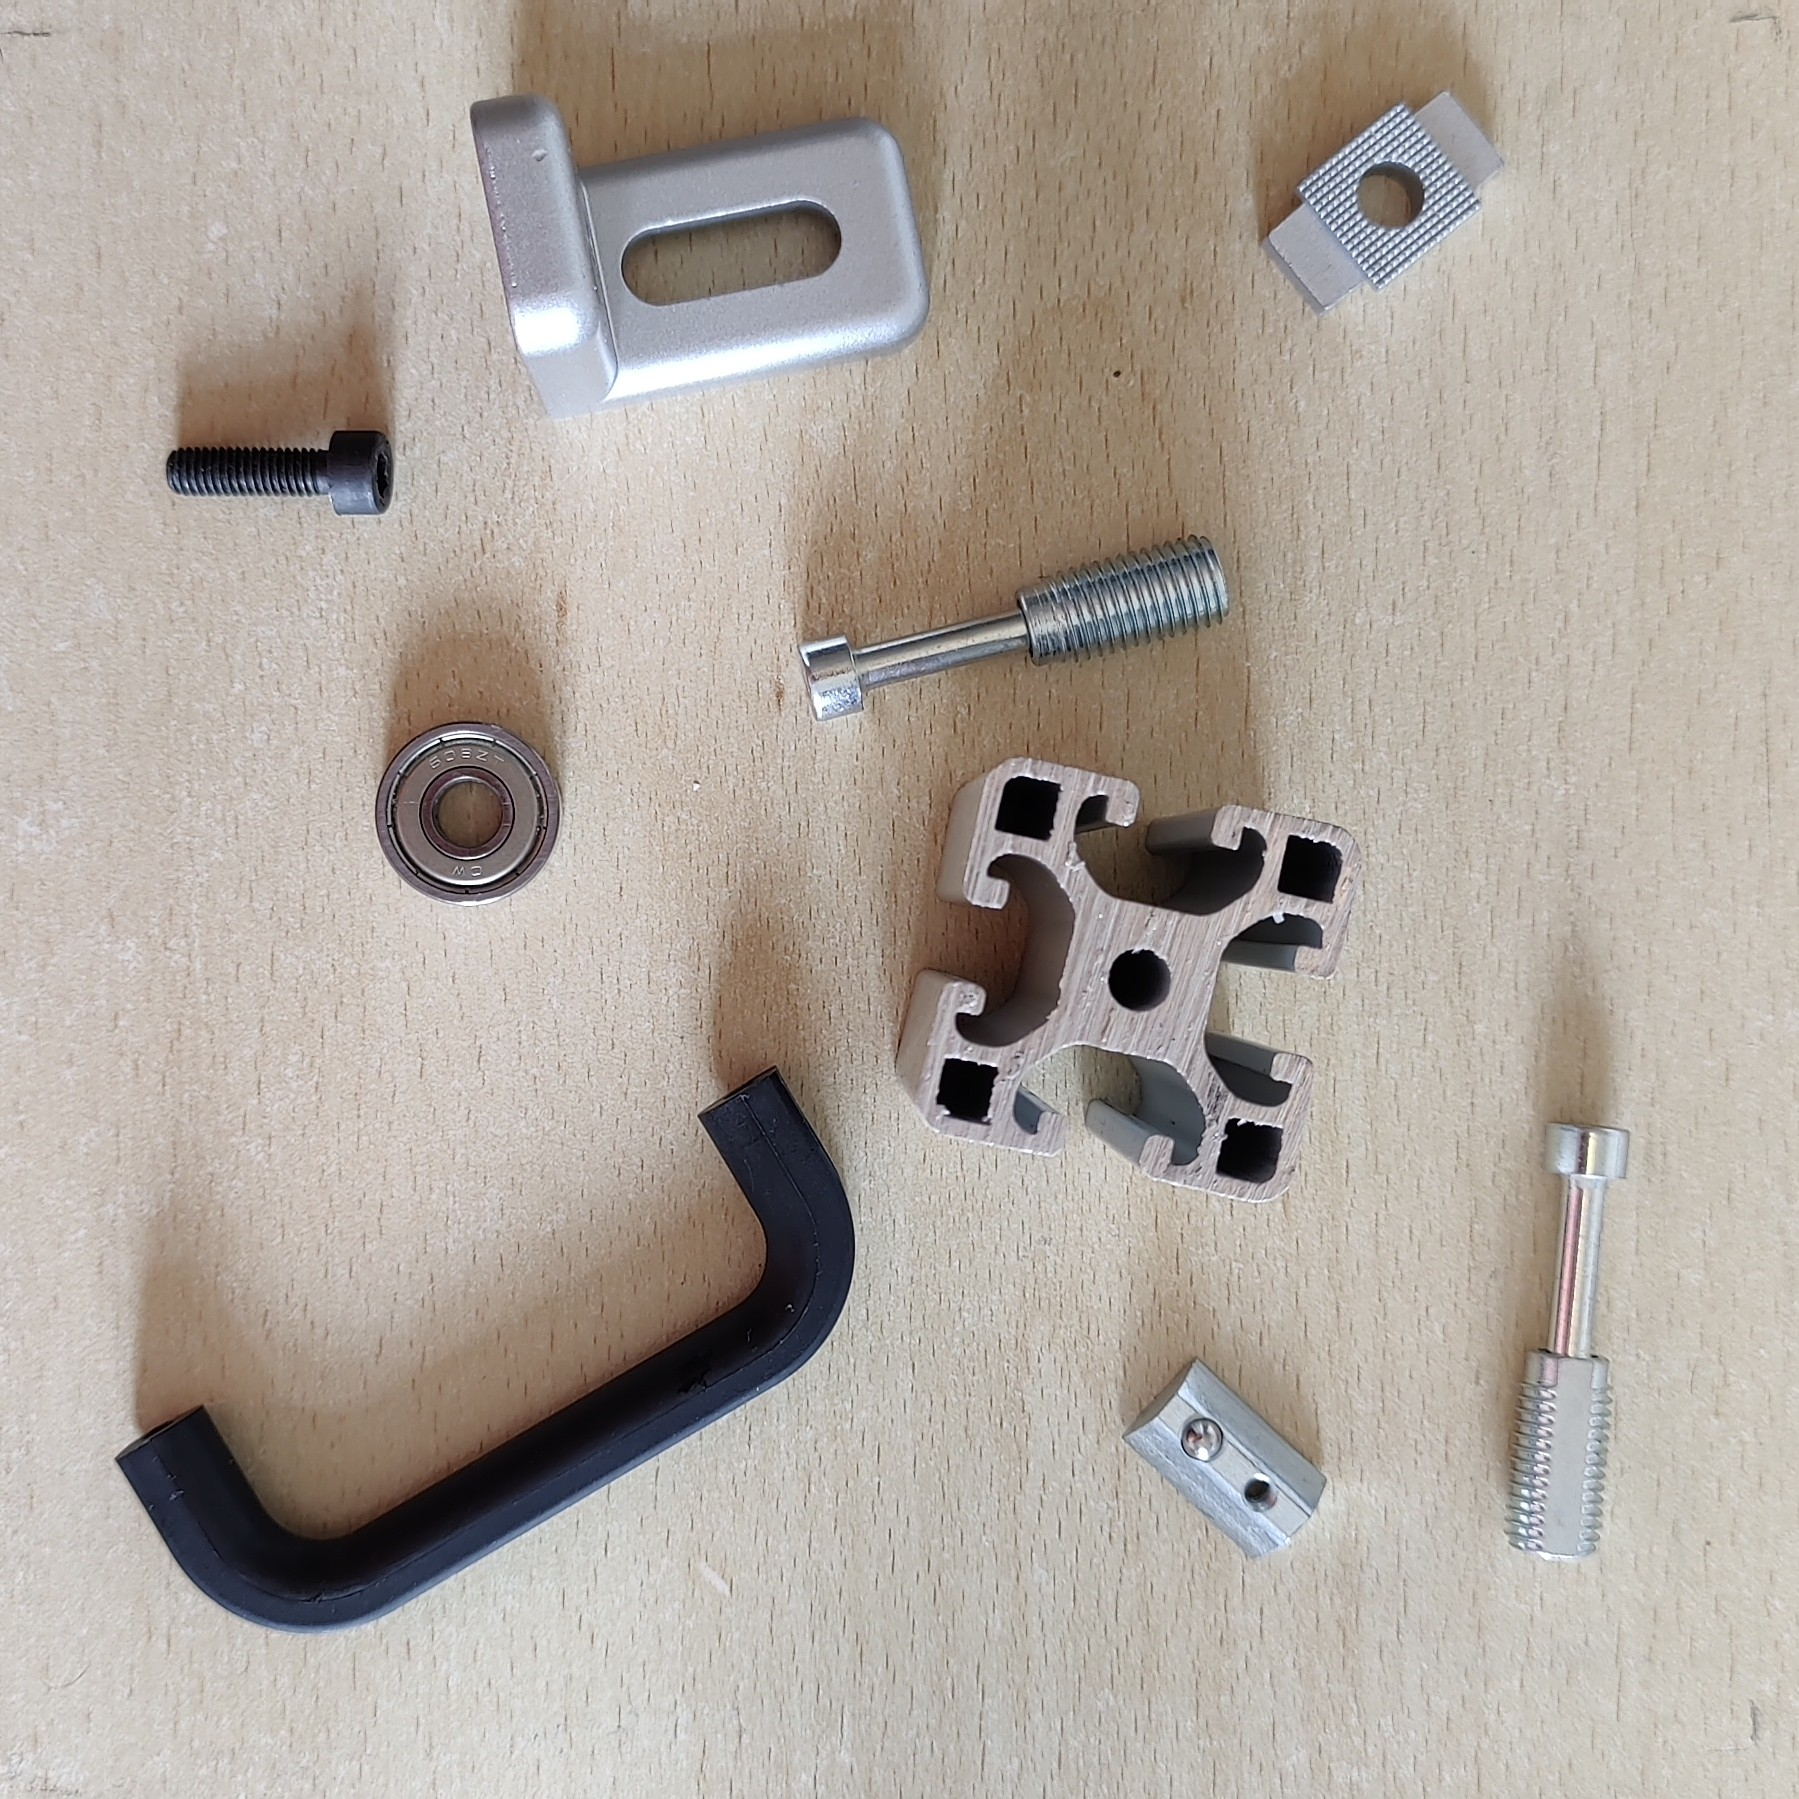Aluminium Extension: (891, 753, 1362, 1206)
Ball Bearing: (372, 718, 563, 908)
Multiwinkel: (468, 87, 931, 422)
Pull Handle: (112, 1064, 858, 1638)
Shoulder Socket Head Cap Screw: (792, 534, 1232, 723), (1499, 1115, 1633, 1563)
Socket Head Cap Screw: (160, 427, 397, 517)
T Nut Square: (1257, 87, 1506, 320)
T Spring Nut: (1124, 1357, 1329, 1565)
